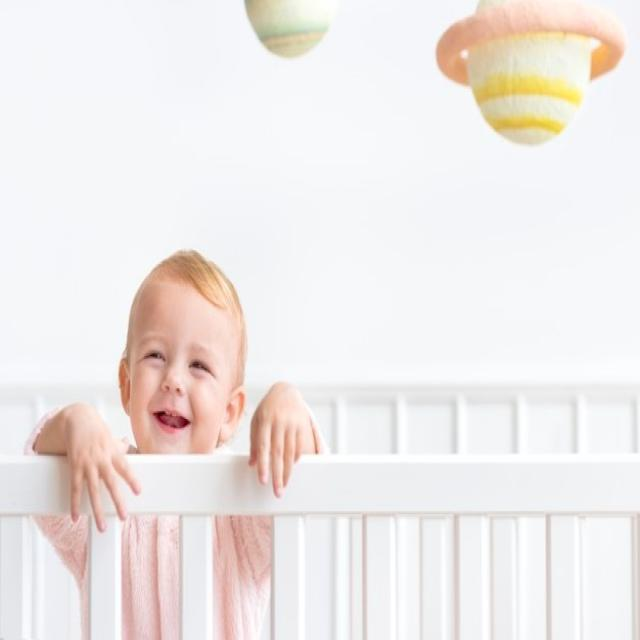non-dog: (17, 244, 327, 640)
